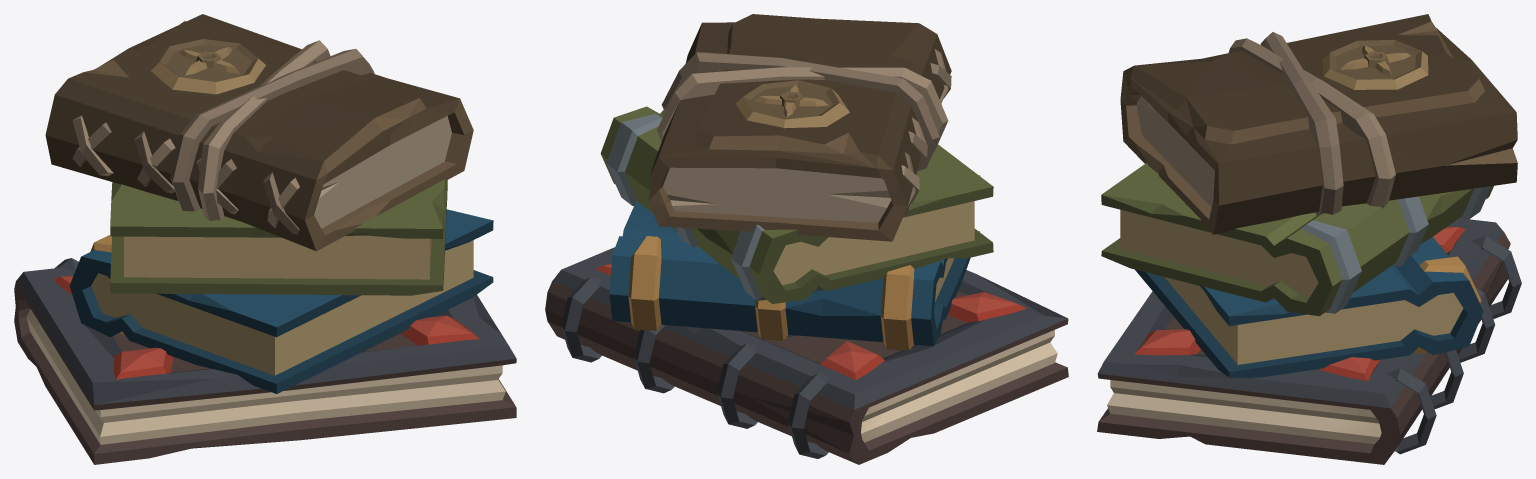
File: SM_Prop_Book_Pile_01.fbx
3 views of the same model, side by side, from view 1: azimuth 30°, elevation 25°; view 2: azimuth 150°, elevation 25°; view 3: azimuth 270°, elevation 25° (orthographic).
Parts seen in each view (by area): view 1: SM_Prop_Book_Pile_01; view 2: SM_Prop_Book_Pile_01; view 3: SM_Prop_Book_Pile_01.
Part boxes in pixels (x1,y1,x2,y2): SM_Prop_Book_Pile_01: (14,14,516,464); SM_Prop_Book_Pile_01: (545,14,1068,464); SM_Prop_Book_Pile_01: (1097,14,1521,464).
Bounding box in the file's own units: 51.4 × 34.72 × 43.72.
